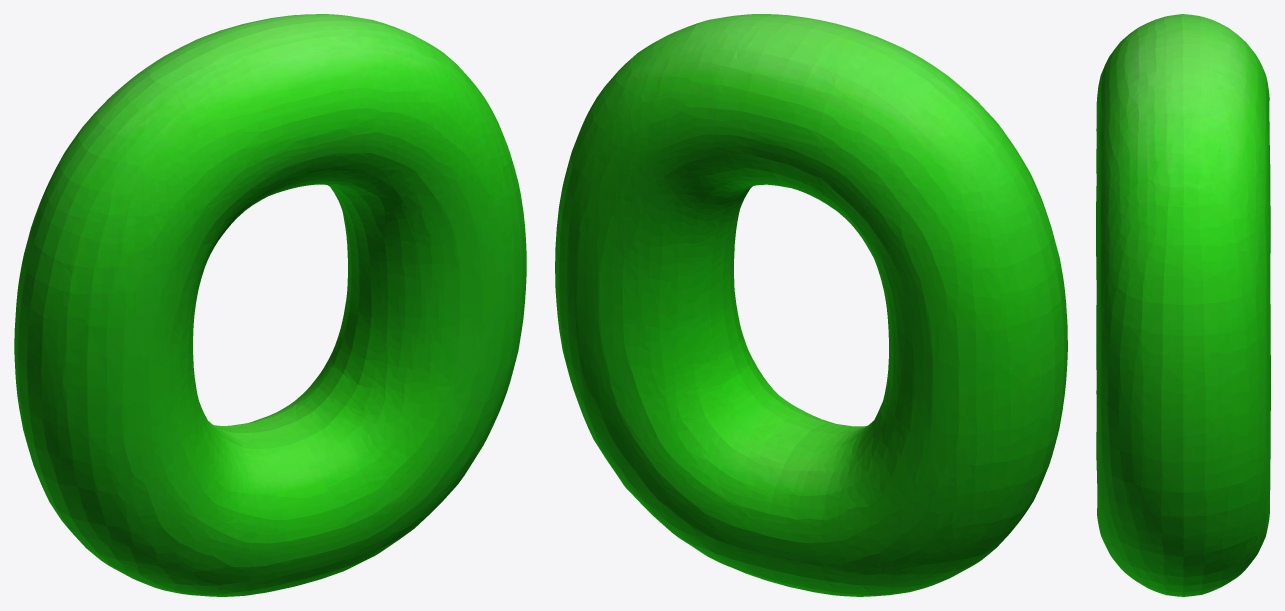
The picture shows the model from 3 angles, left to right: view 1: azimuth 30°, elevation 25°; view 2: azimuth 150°, elevation 25°; view 3: azimuth 270°, elevation 25°; orthographic projection. The views are drawn at different scales.
Parts seen in each view (by area): view 1: geometry_0; view 2: geometry_0; view 3: geometry_0.
Part boxes in pixels (box(x1,y1,x2,y2)): geometry_0: box(14, 14, 526, 596); geometry_0: box(555, 14, 1067, 596); geometry_0: box(1096, 14, 1270, 596).
Size of the model in its own units: 0.9191 by 0.9975 by 0.3023.
1 material, 1 textured.
